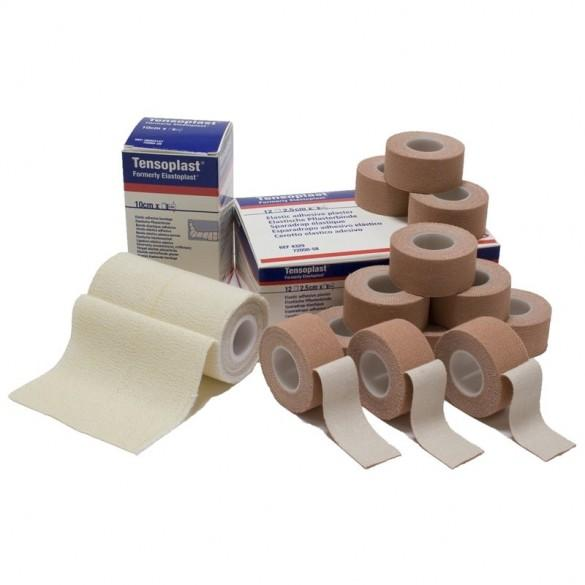bandage: (5, 249, 267, 461), (260, 314, 400, 469), (349, 320, 482, 472), (436, 315, 571, 463), (390, 223, 476, 294), (344, 264, 427, 333), (381, 126, 465, 191), (408, 176, 489, 239), (431, 262, 507, 321), (491, 282, 547, 354), (357, 157, 415, 222), (307, 301, 365, 354)
waste: (227, 193, 428, 322), (120, 115, 231, 289)
